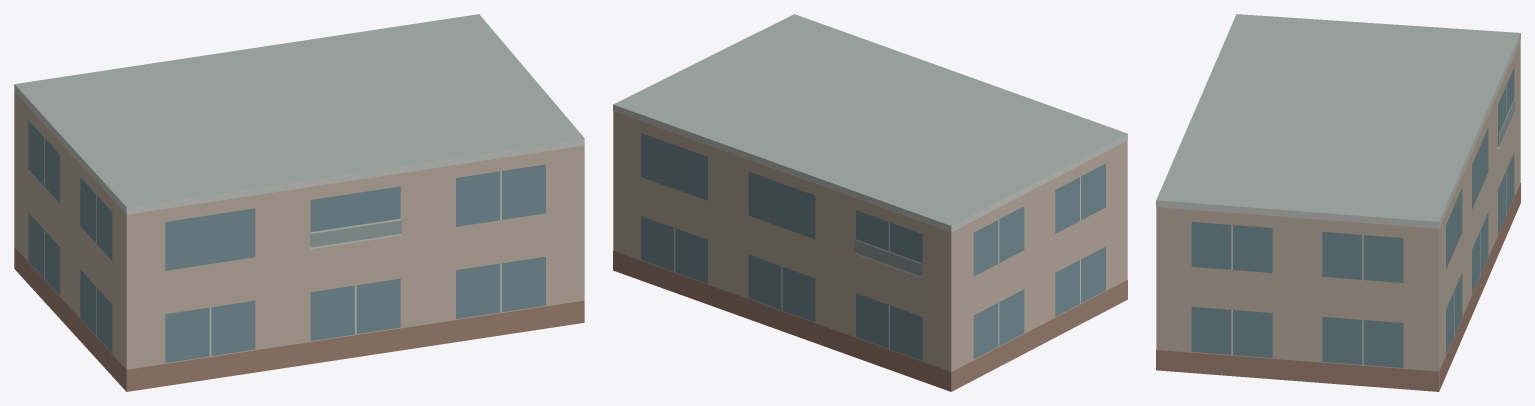
The model's file is survey-upis-32997450.glb.
3 renders of one model, left to right at view 1: azimuth 30°, elevation 25°; view 2: azimuth 150°, elevation 25°; view 3: azimuth 270°, elevation 25°, orthographic. The views are drawn at different scales.
Parts seen in each view (by area): view 1: survey-upis-32997450.tmp; view 2: survey-upis-32997450.tmp; view 3: survey-upis-32997450.tmp.
Boxes of the visible parts, box(x1,y1,x2,y2) form: survey-upis-32997450.tmp: box(14, 14, 584, 391); survey-upis-32997450.tmp: box(613, 14, 1127, 391); survey-upis-32997450.tmp: box(1156, 14, 1520, 391).
Size of the model in its own units: 16.01 by 6.1 by 11.87.
